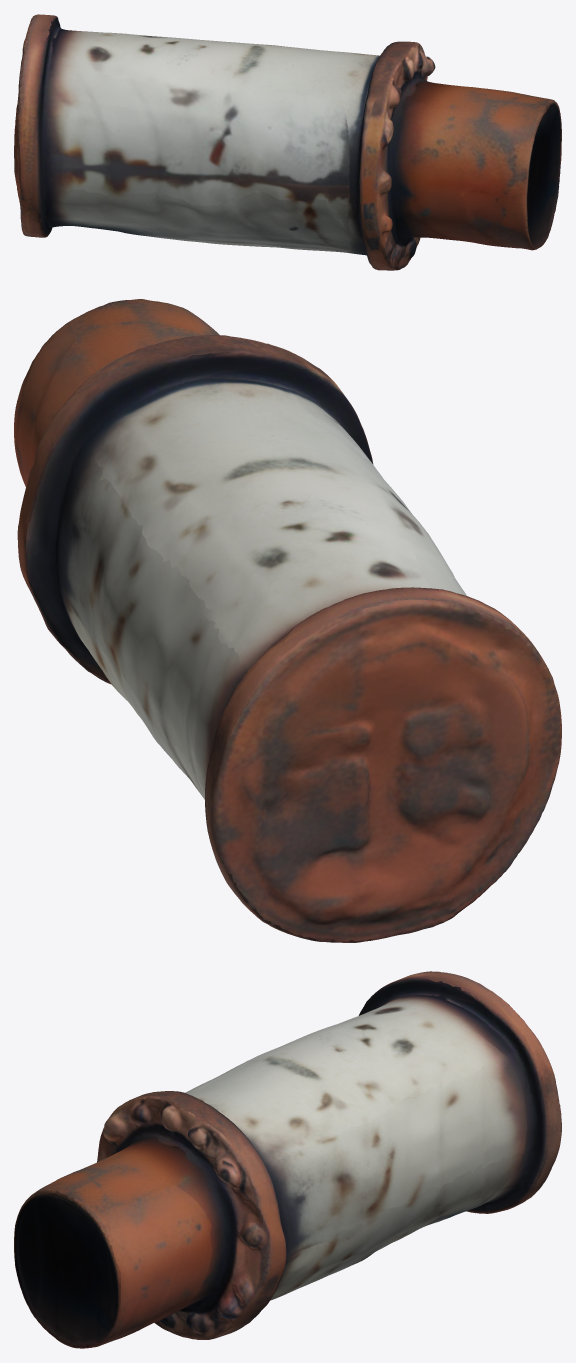
The model's file is pipe2.fbx.
The picture shows the model from 3 angles, top to bottom: view 1: azimuth 30°, elevation 25°; view 2: azimuth 150°, elevation 25°; view 3: azimuth 270°, elevation 25°; orthographic projection. The views are drawn at different scales.
Visible parts, largest first — view 1: tmp0v51a8zd.ply; view 2: tmp0v51a8zd.ply; view 3: tmp0v51a8zd.ply.
Boxes of the visible parts, x1=… form: tmp0v51a8zd.ply: x1=14, y1=14, x2=561, y2=270; tmp0v51a8zd.ply: x1=14, y1=299, x2=561, y2=942; tmp0v51a8zd.ply: x1=14, y1=971, x2=561, y2=1348.
Size of the model in its own units: 99.03 by 45.12 by 97.79.
Materials: 1 (1 with a texture image).
